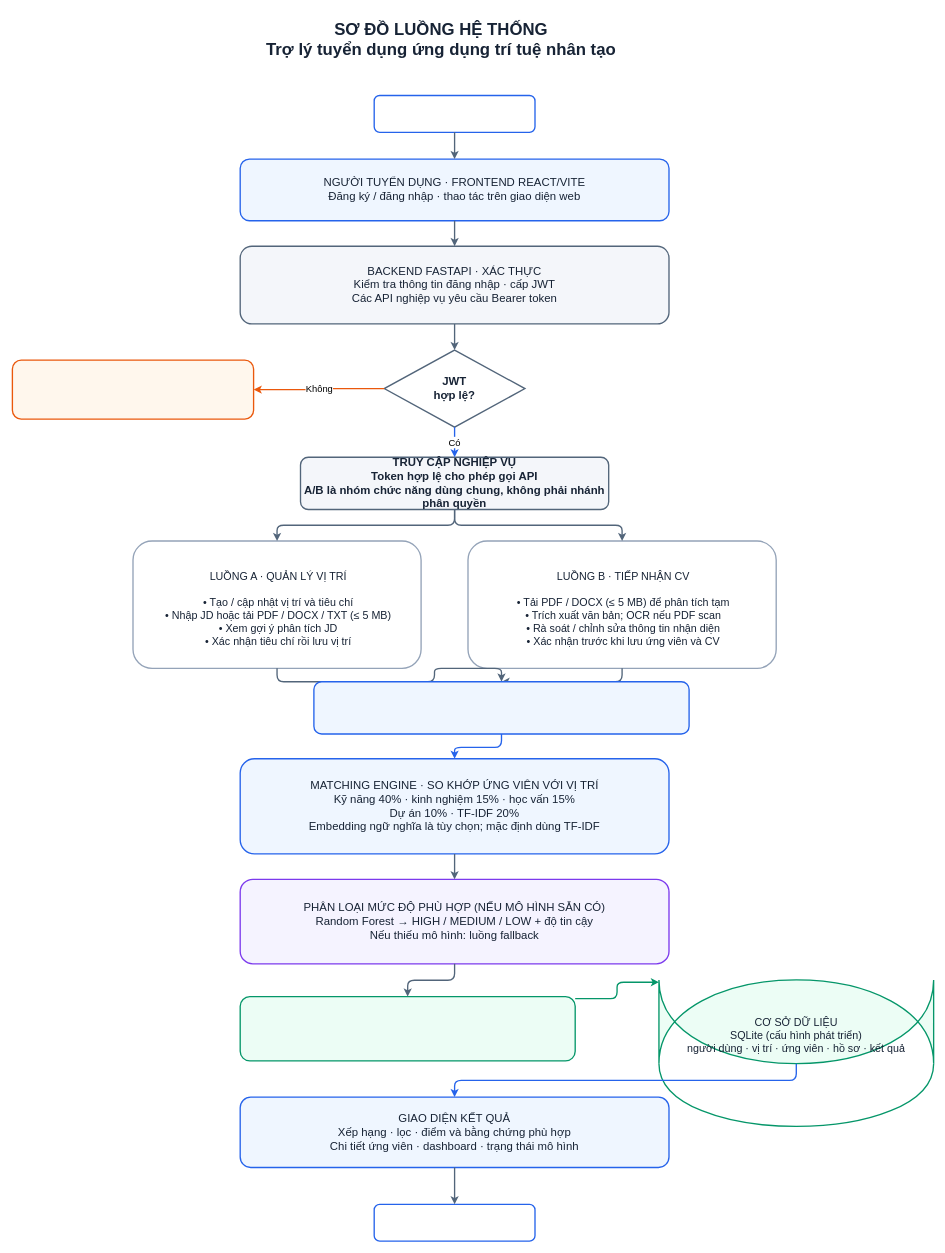
The diagram is 945 pixels wide and 1253 high, and some of its shapes have lost their labels. Here are the shapes that lost their labels. From the top down, the centre of each, then its label:
the point at 454,113: BẮT ĐẦU
the point at 132,389: KHÔNG HỢP LỆ Trả lỗi đăng nhập / từ chối truy cập
the point at 501,707: NHÀ TUYỂN DỤNG CHỌN VỊ TRÍ + HỒ SƠ ĐÃ XÁC NHẬN Gửi yêu cầu sàng lọc
the point at 407,1028: GHI KẾT QUẢ Job · Candidate · Resume · Match · MatchDetail
the point at 454,1222: KẾT THÚC
